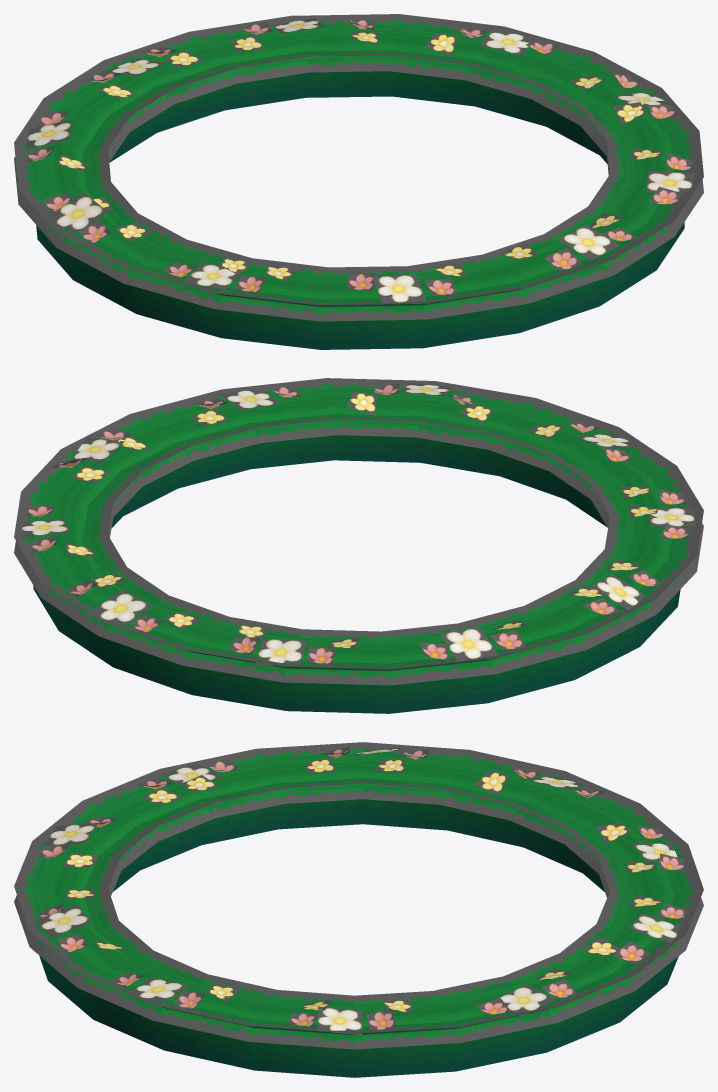
The model's file is 0165_T_ZhenYin_HuaYuan01.glb.
3 views of the same model, one above another, from view 1: azimuth 30°, elevation 25°; view 2: azimuth 150°, elevation 25°; view 3: azimuth 270°, elevation 25° (orthographic).
Size of the model in its own units: 2.2 by 0.2345 by 2.2.
Materials: 1 (1 with a texture image).
